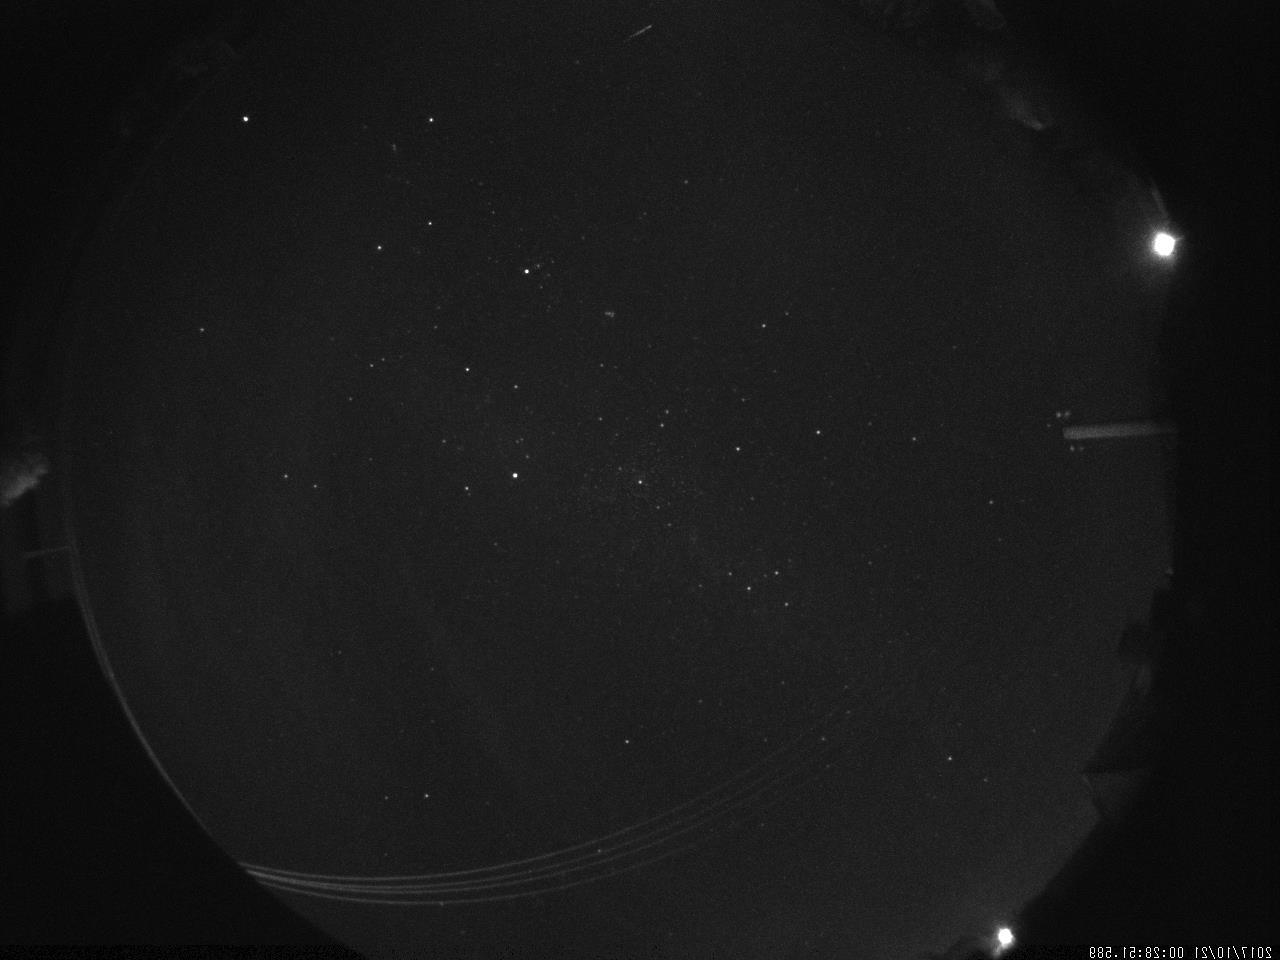meteor: (593, 19, 670, 45)
